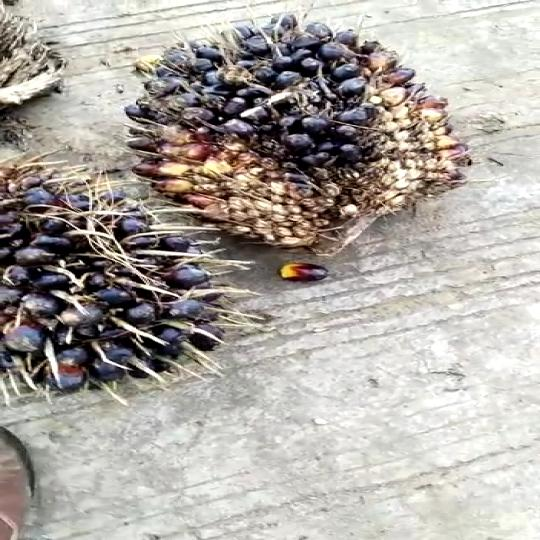mentah: (128, 22, 490, 278), (0, 158, 259, 406)
